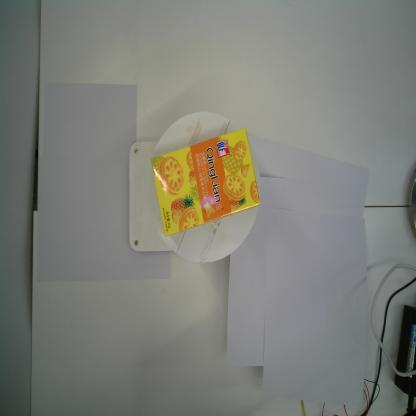Dessert: (150, 127, 261, 238)
